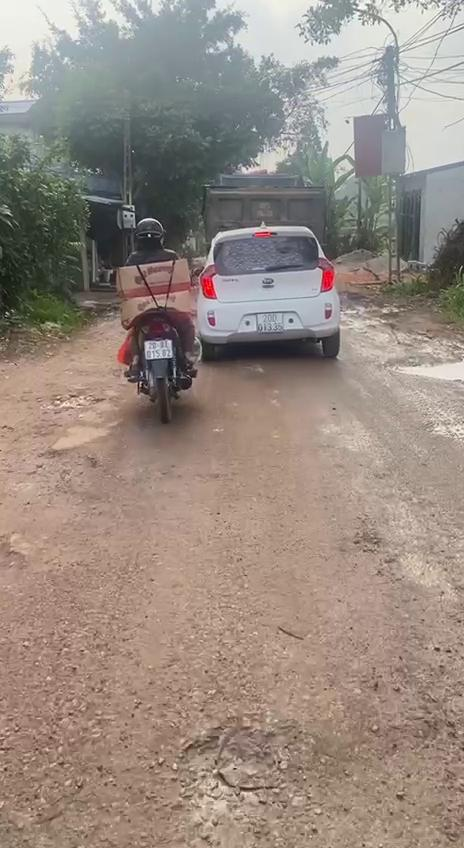pothole: (171, 720, 304, 848), (36, 441, 96, 498), (382, 352, 464, 385), (46, 390, 103, 410)
